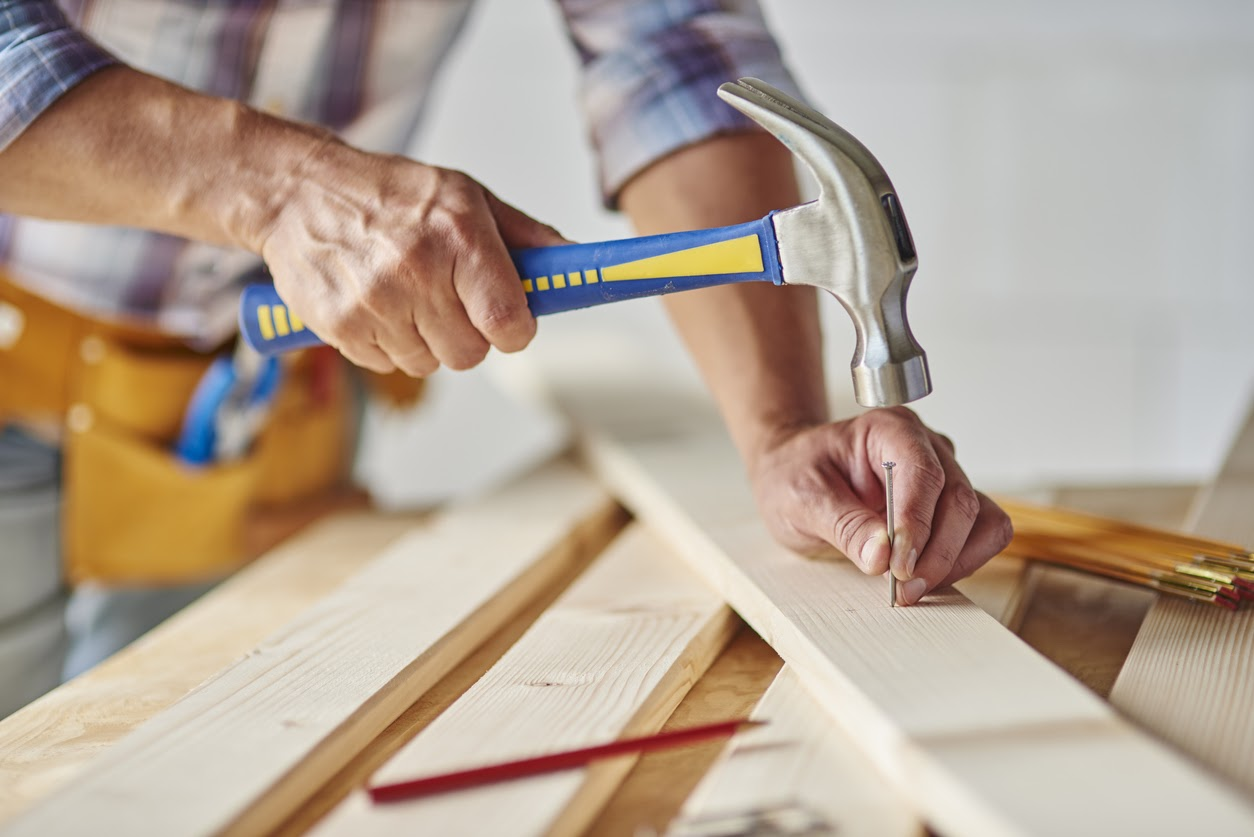hammer: (233, 70, 936, 412)
